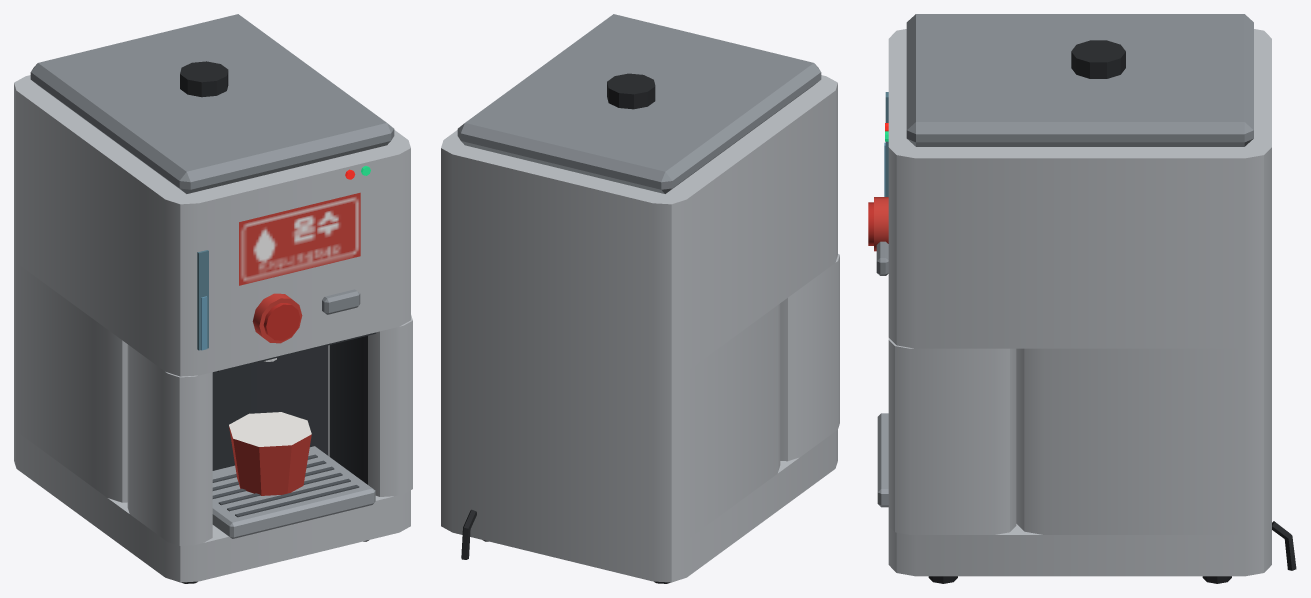
Rendered from SC_Fix_HotWater_Dispenser.gltf.
3 renders of one model, left to right at view 1: azimuth 30°, elevation 25°; view 2: azimuth 150°, elevation 25°; view 3: azimuth 270°, elevation 25°, orthographic. The views are drawn at different scales.
Visible parts, largest first — view 1: SC_Fix_HotWater_Dispenser; view 2: SC_Fix_HotWater_Dispenser; view 3: SC_Fix_HotWater_Dispenser.
Boxes of the visible parts, x1,y1,x2,y2 form: SC_Fix_HotWater_Dispenser: (14,14,412,583); SC_Fix_HotWater_Dispenser: (441,14,839,583); SC_Fix_HotWater_Dispenser: (868,14,1296,583).
Bounding box in the file's own units: 0.34 × 0.58 × 0.4687.
3 materials, 3 textured.
